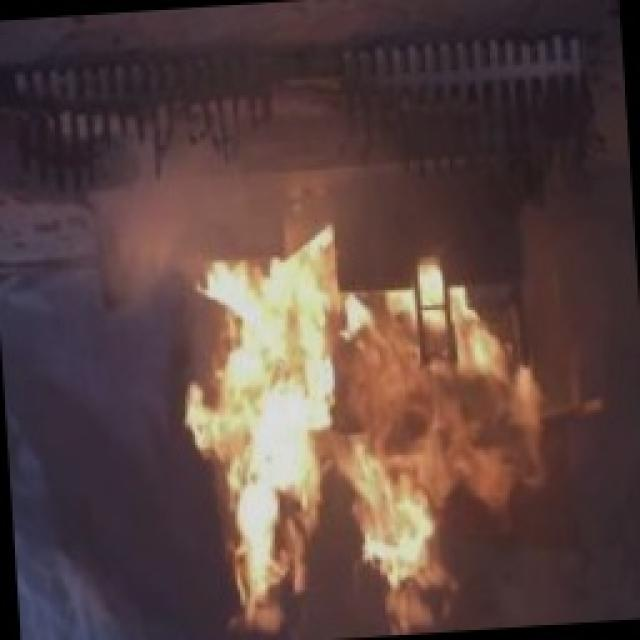fire: (139, 177, 599, 640)
